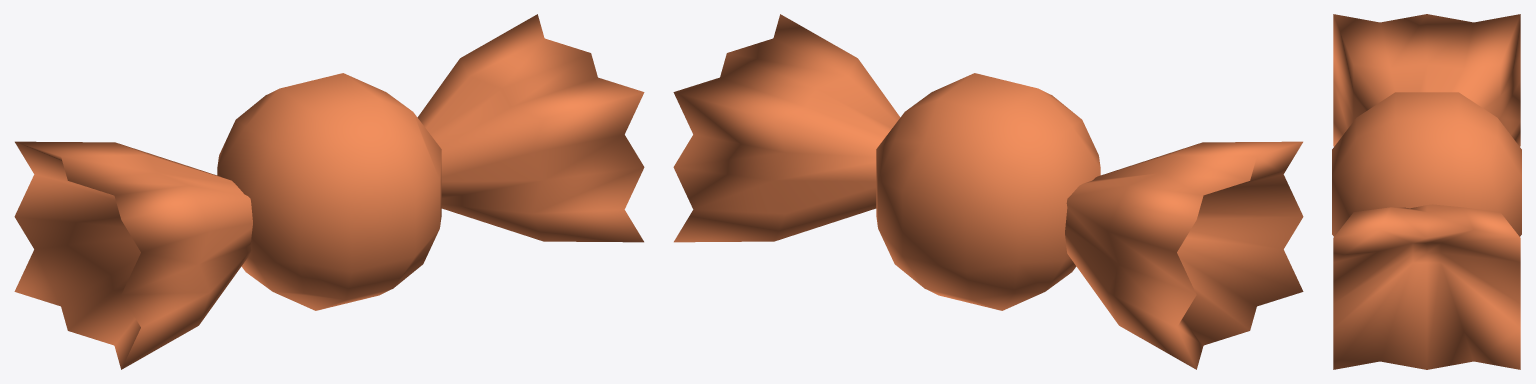
The model's file is candy_orange.fbx.
The picture shows the model from 3 angles, left to right: view 1: azimuth 30°, elevation 25°; view 2: azimuth 150°, elevation 25°; view 3: azimuth 270°, elevation 25°; orthographic projection. The views are drawn at different scales.
Parts seen in each view (by area): view 1: candy_orange.001; view 2: candy_orange.001; view 3: candy_orange.001.
Part boxes in pixels (x1,y1,x2,y2): candy_orange.001: (14, 14, 644, 369); candy_orange.001: (673, 14, 1303, 369); candy_orange.001: (1332, 14, 1521, 369).
Size of the model in its own units: 269 by 96.49 by 96.49.
